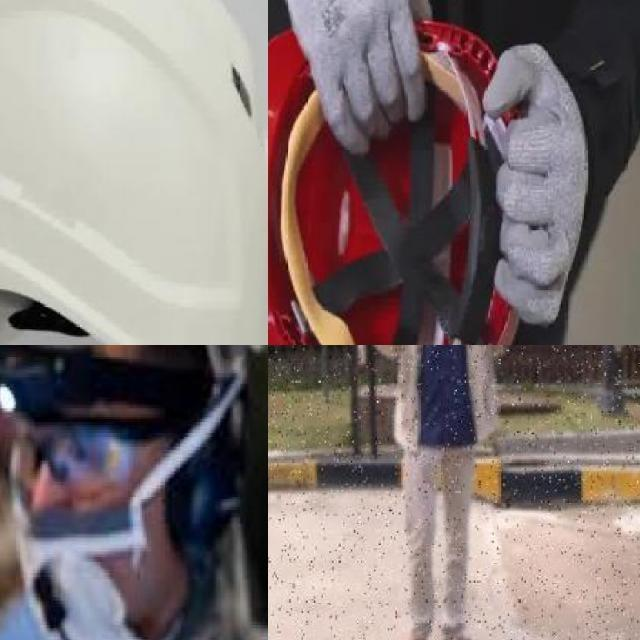apron: (482, 40, 590, 328), (268, 0, 434, 153)
